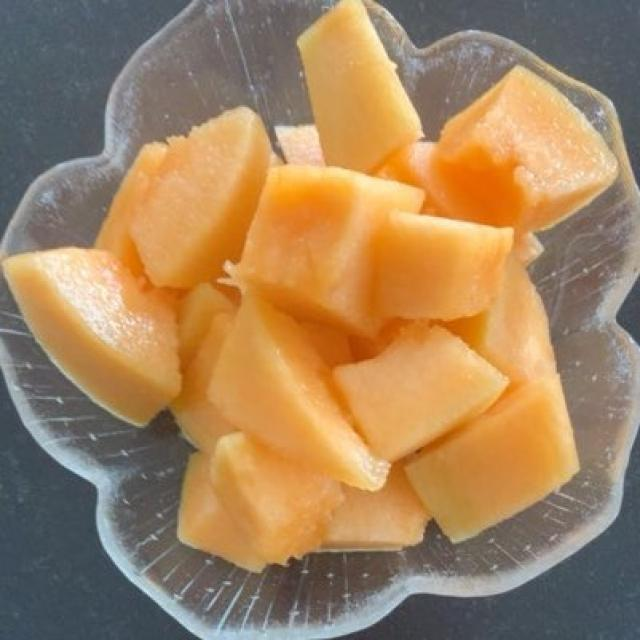melon: (15, 23, 599, 551)
